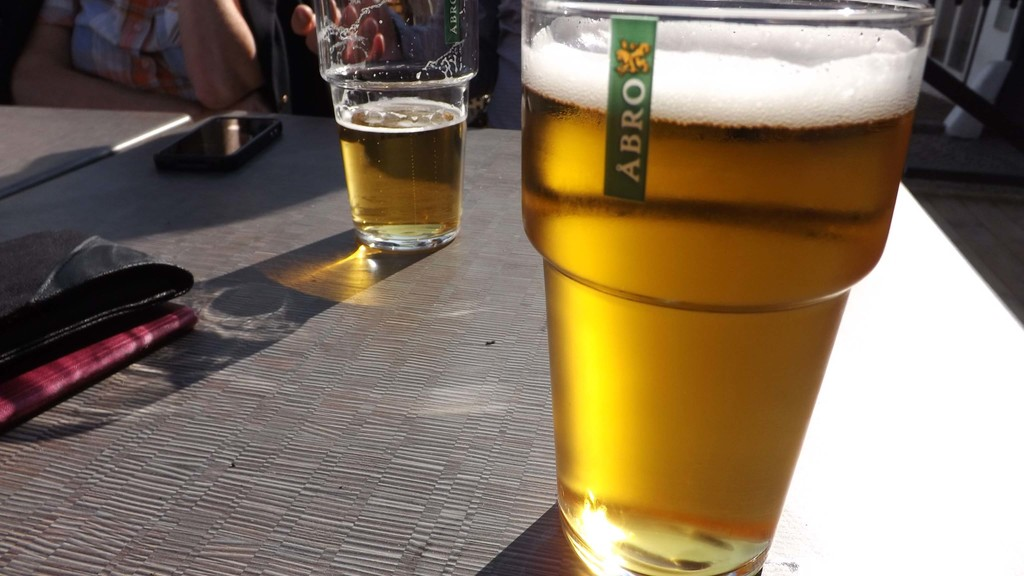Beer: (505, 0, 947, 575), (310, 0, 508, 264)
